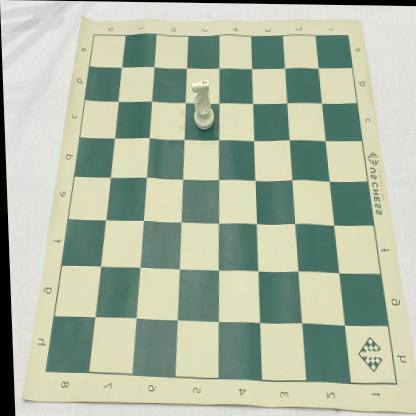white-knight: (190, 78, 214, 130)
